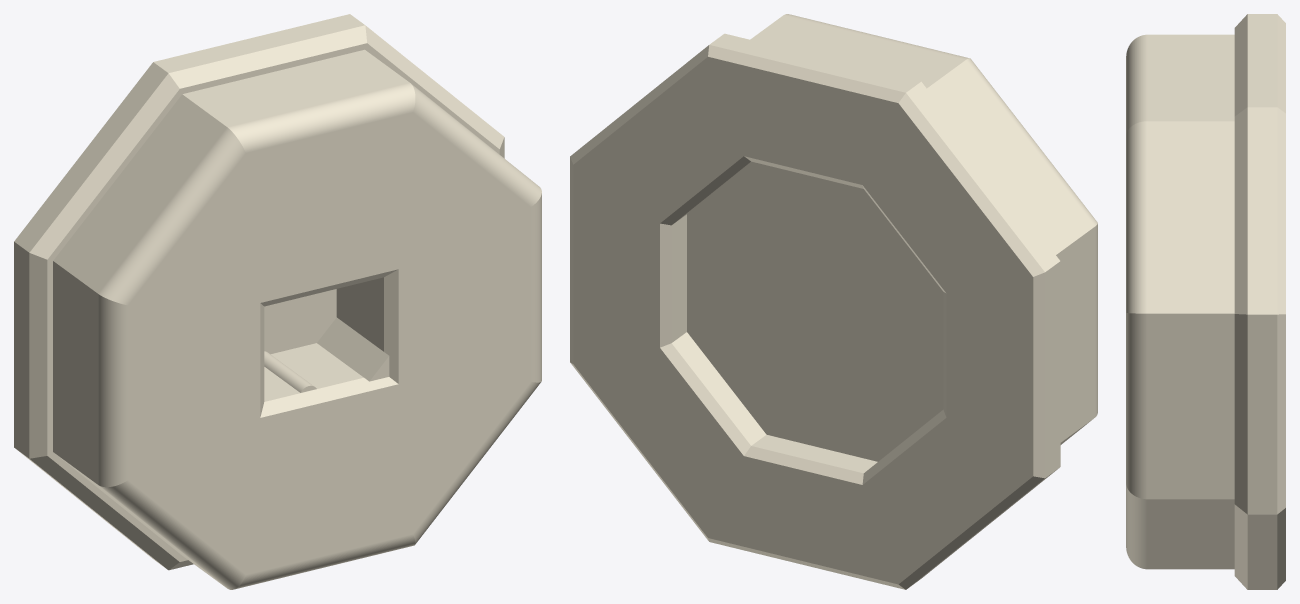
Rendered from base@ivory.glb.
3 views of the same model, side by side, from view 1: azimuth 30°, elevation 25°; view 2: azimuth 150°, elevation 25°; view 3: azimuth 270°, elevation 25° (orthographic). The views are drawn at different scales.
Parts seen in each view (by area): view 1: geometry_0; view 2: geometry_0; view 3: geometry_0.
Boxes of the visible parts, box(x1,y1,x2,y2) form: geometry_0: box(14, 14, 541, 589); geometry_0: box(570, 14, 1097, 589); geometry_0: box(1126, 14, 1285, 589).
Size of the model in its own units: 25 by 25 by 7.5.
